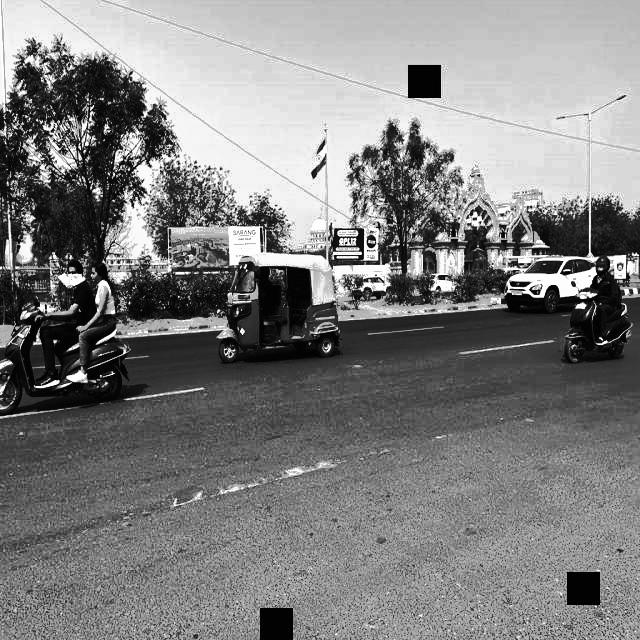Auto-Rickshaw: (217, 238, 342, 360)
Bike: (0, 262, 150, 408), (562, 258, 633, 372)
Car: (500, 250, 593, 310)
